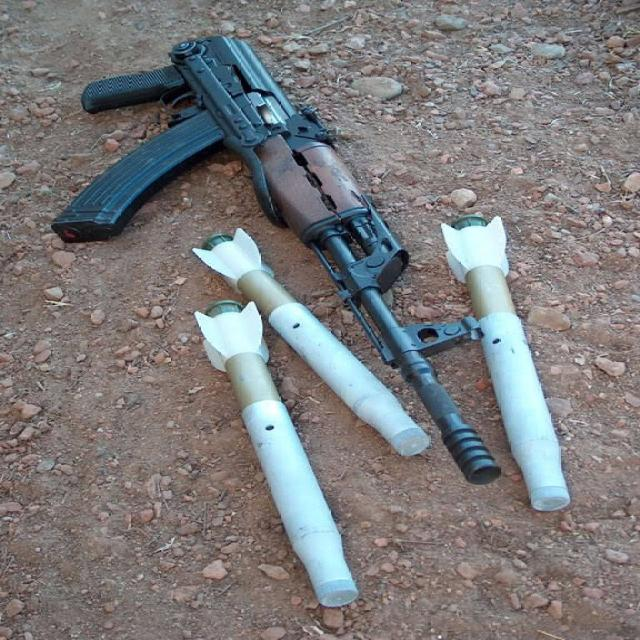firearm: (52, 37, 500, 485)
grenade: (192, 227, 429, 457), (193, 300, 359, 607), (440, 215, 571, 512)
